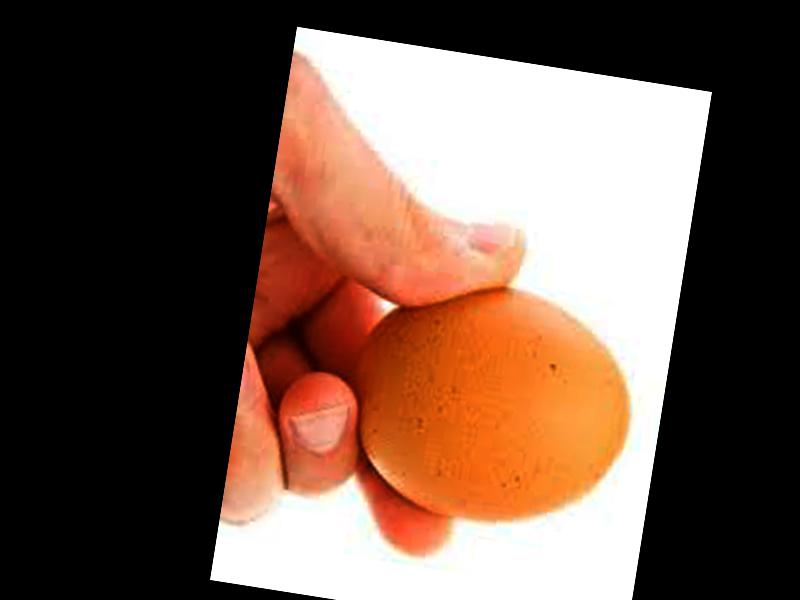Eggs: (341, 267, 648, 543)
